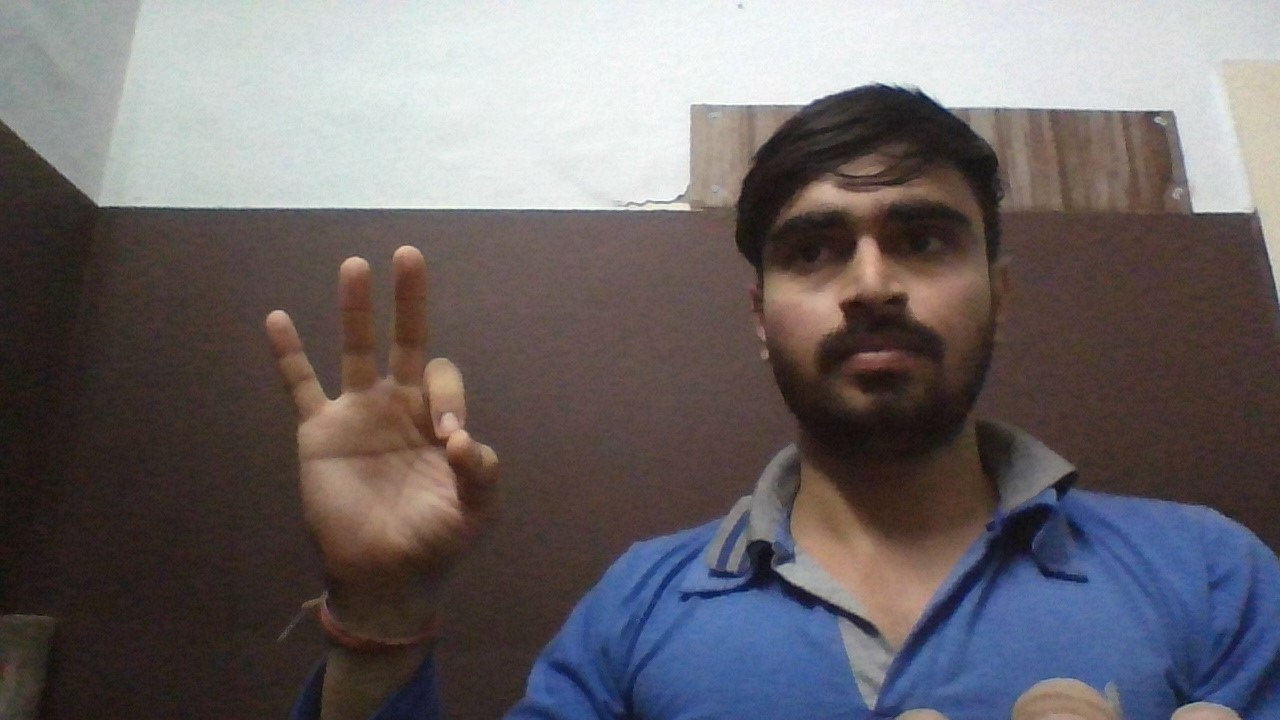F: (259, 237, 534, 607)
